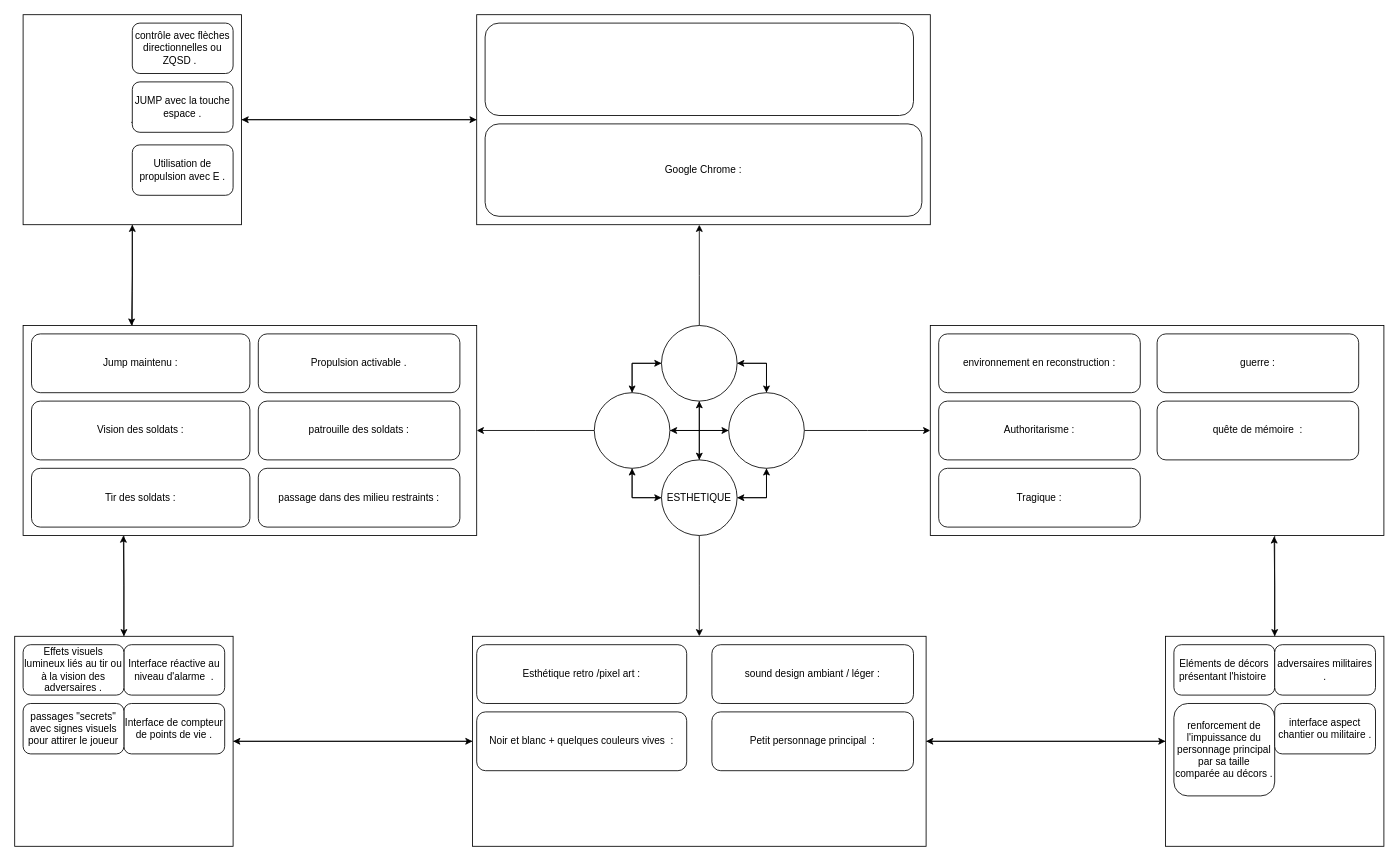
Image size: 1399x861. Some labels were removed from this diagram. The centre of each missing label's shape, as x and y in pixels:
"MECANIQUES" belongs at point (631, 430).
"NARRATOLOGIE" belongs at point (766, 430).
"PHASER 3 :" belongs at point (699, 69).
"TECHNOLOGIE" belongs at point (699, 363).
